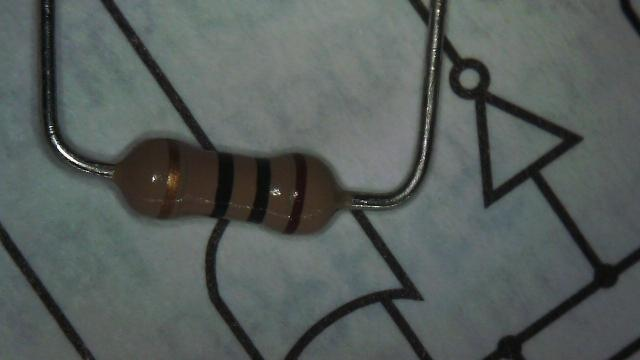black: (211, 153, 235, 218), (248, 158, 272, 223)
brown: (284, 154, 308, 233)
gold: (159, 140, 182, 219)
resistor: (94, 119, 353, 245)
